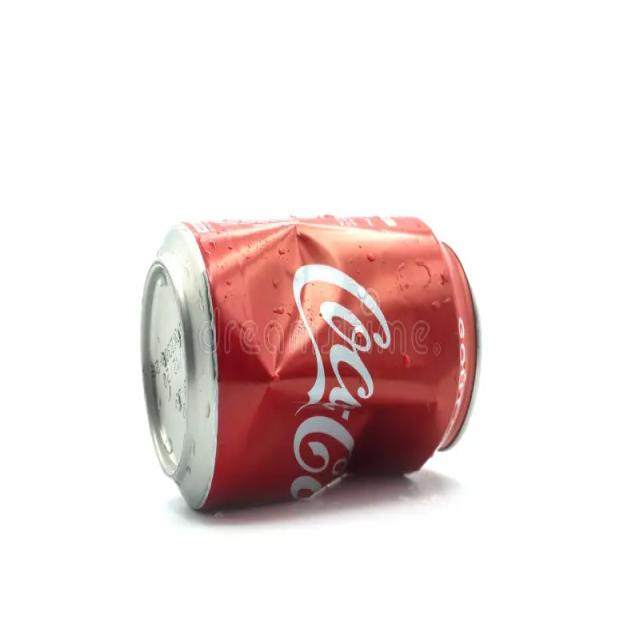aluminum_can: (141, 218, 478, 510)
